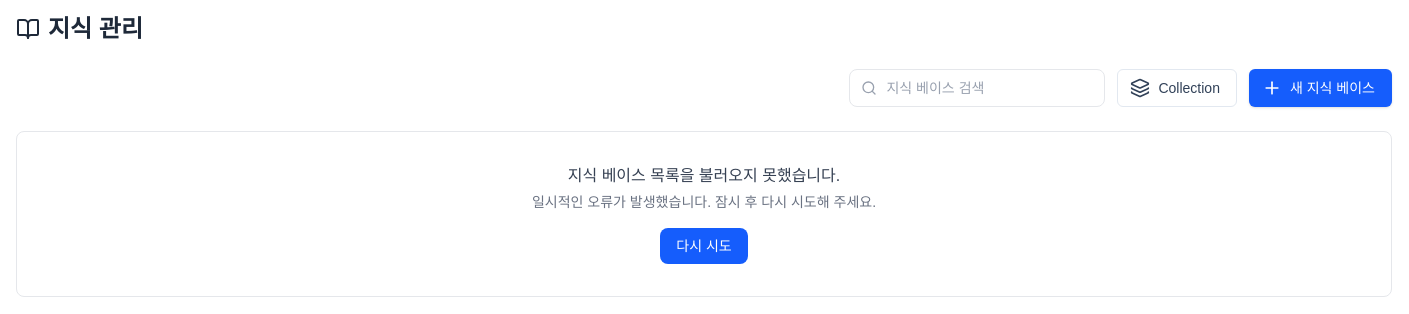
Scenario: KnowledgePage failure state › shows a retryable load failure instead of an empty list
Expected: the text "지식 베이스 목록을 불러오지 못했습니다." is shown, [568,167,840,184]
What coordinates should you click on to do the following:
click the button "다시 시도"
I would click on:
 (704, 246)
Its box is [660,228,748,264].
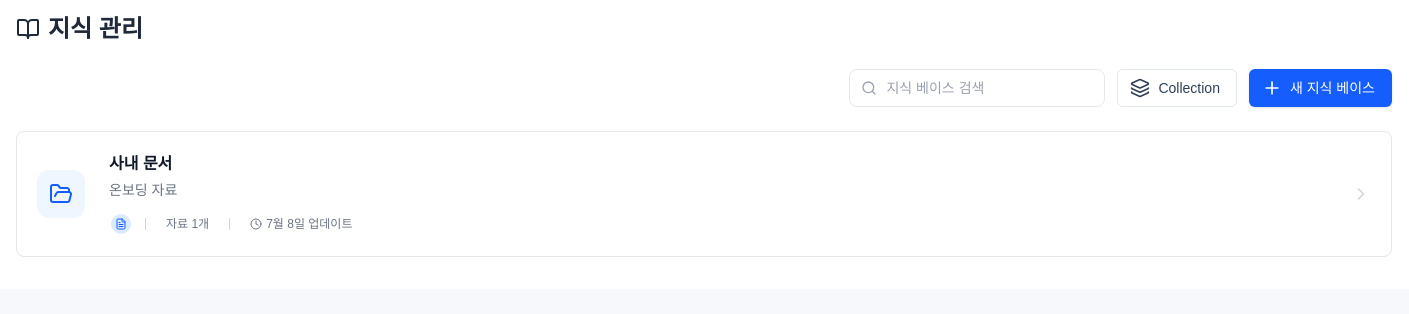
Expected: the heading "사내 문서" is shown, [109,152,172,176]
